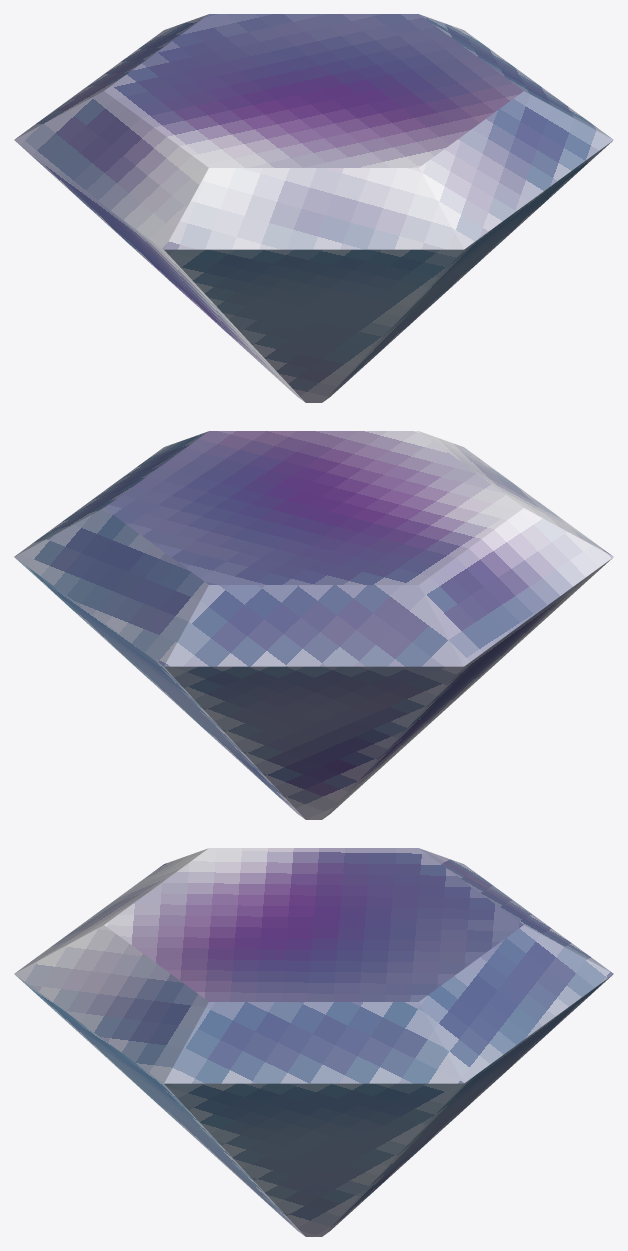
File: Mesh_diamond.fbx
3 renders of one model, top to bottom at view 1: azimuth 30°, elevation 25°; view 2: azimuth 150°, elevation 25°; view 3: azimuth 270°, elevation 25°, orthographic.
Visible parts, largest first — view 1: Mesh_diamond; view 2: Mesh_diamond; view 3: Mesh_diamond.
Part boxes in pixels (bbox=[...]): Mesh_diamond: bbox=[14, 14, 613, 402]; Mesh_diamond: bbox=[14, 431, 613, 819]; Mesh_diamond: bbox=[14, 848, 613, 1236].
Bounding box in the file's own units: 17.32 × 11.25 × 20.
